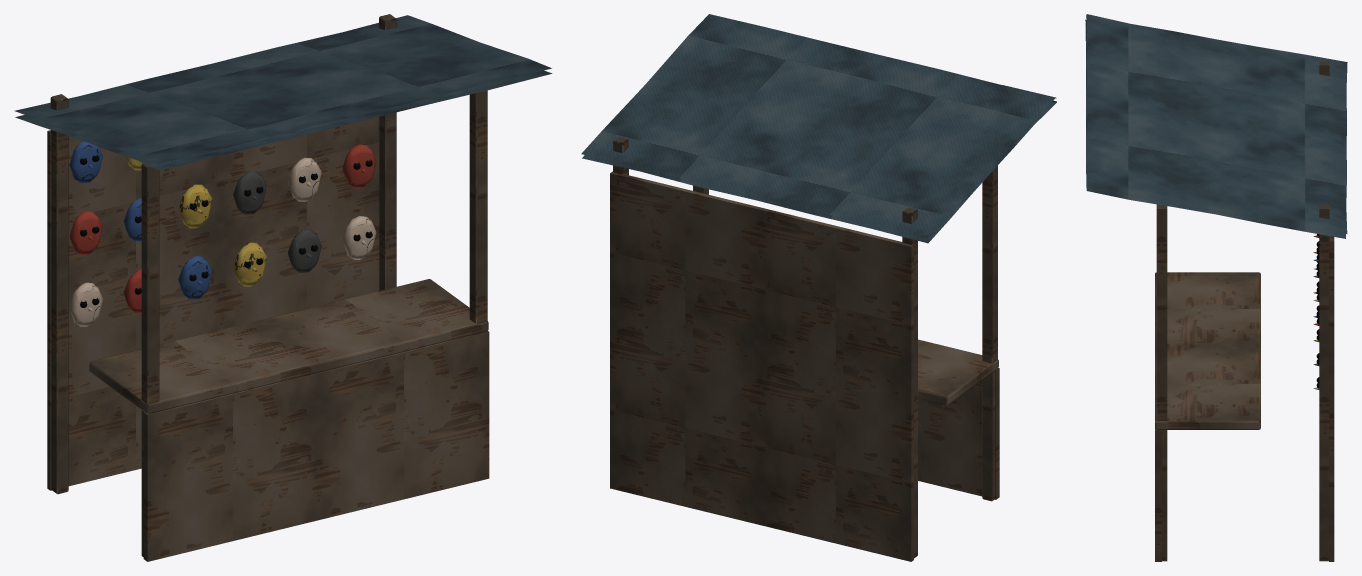
The model's file is W32_MaskStall.glb.
3 views of the same model, side by side, from view 1: azimuth 30°, elevation 25°; view 2: azimuth 150°, elevation 25°; view 3: azimuth 270°, elevation 25° (orthographic). The views are drawn at different scales.
Visible parts, largest first — view 1: W32_MaskStall; view 2: W32_MaskStall; view 3: W32_MaskStall.
Part boxes in pixels (x1=…): W32_MaskStall: x1=14, y1=14, x2=552, y2=561; W32_MaskStall: x1=581, y1=14, x2=1056, y2=561; W32_MaskStall: x1=1085, y1=14, x2=1347, y2=561.
Bounding box in the file's own units: 1.91 × 2 × 1.23.
Materials: 8 (8 with a texture image).
